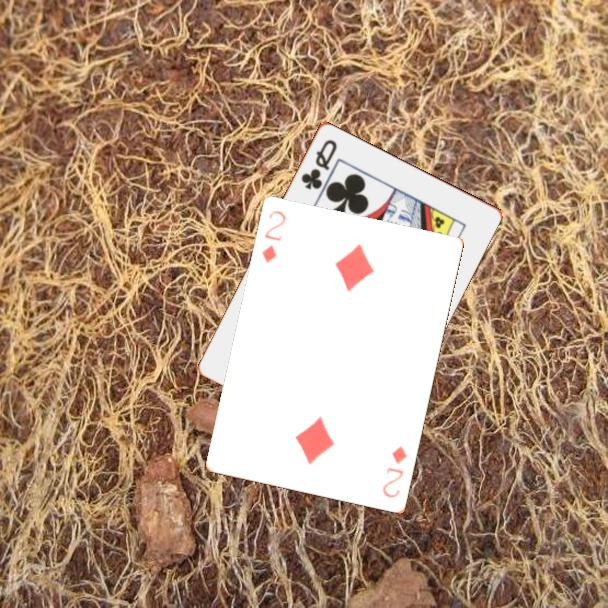c12: (297, 135, 340, 192)
d02: (379, 442, 410, 501), (258, 207, 289, 266)
